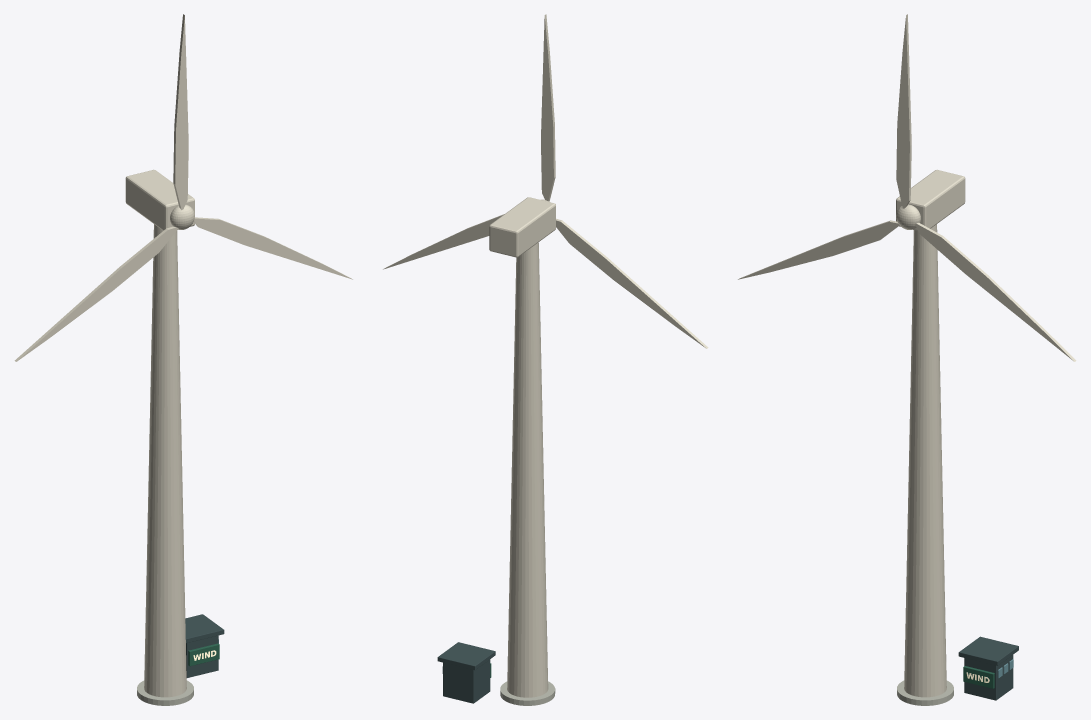
Rendered from power-wind.glb.
3 views of the same model, side by side, from view 1: azimuth 30°, elevation 25°; view 2: azimuth 150°, elevation 25°; view 3: azimuth 330°, elevation 25° (orthographic). The views are drawn at different scales.
Visible parts, largest first — view 1: TurbineMast, Nacelle, RotorBlade_1, RotorBlade_0, RotorBlade_2, TransformerHouseRoof, TransformerHouse, Foundation; view 2: TurbineMast, Nacelle, RotorBlade_1, RotorBlade_0, TransformerHouse, RotorBlade_2, TransformerHouseRoof, Foundation; view 3: TurbineMast, Nacelle, RotorBlade_2, RotorBlade_0, RotorBlade_1, TransformerHouse, TransformerHouseRoof, Foundation.
Boxes of the visible parts, x1,y1,x2,y2 form: TurbineMast: (144,224,186,697); Nacelle: (125,169,194,230); RotorBlade_1: (14,226,178,361); RotorBlade_0: (173,14,188,209); RotorBlade_2: (194,217,352,279); TransformerHouseRoof: (185,614,224,643); TransformerHouse: (186,635,218,677); Foundation: (137,680,193,705); TurbineMast: (507,242,548,697); Nacelle: (489,197,555,257); RotorBlade_1: (556,218,708,348); RotorBlade_0: (541,14,555,201); TransformerHouse: (443,659,490,703); RotorBlade_2: (383,214,504,269); TransformerHouseRoof: (437,642,495,670); Foundation: (500,681,555,705); TurbineMast: (904,224,946,697); Nacelle: (896,169,965,230); RotorBlade_2: (915,223,1076,361); RotorBlade_0: (896,14,911,208); RotorBlade_1: (738,220,899,279); TransformerHouse: (964,655,1013,700); TransformerHouseRoof: (958,636,1018,665); Foundation: (897,680,953,705).
Size of the model in its own units: 19.05 by 37.4 by 4.89.
